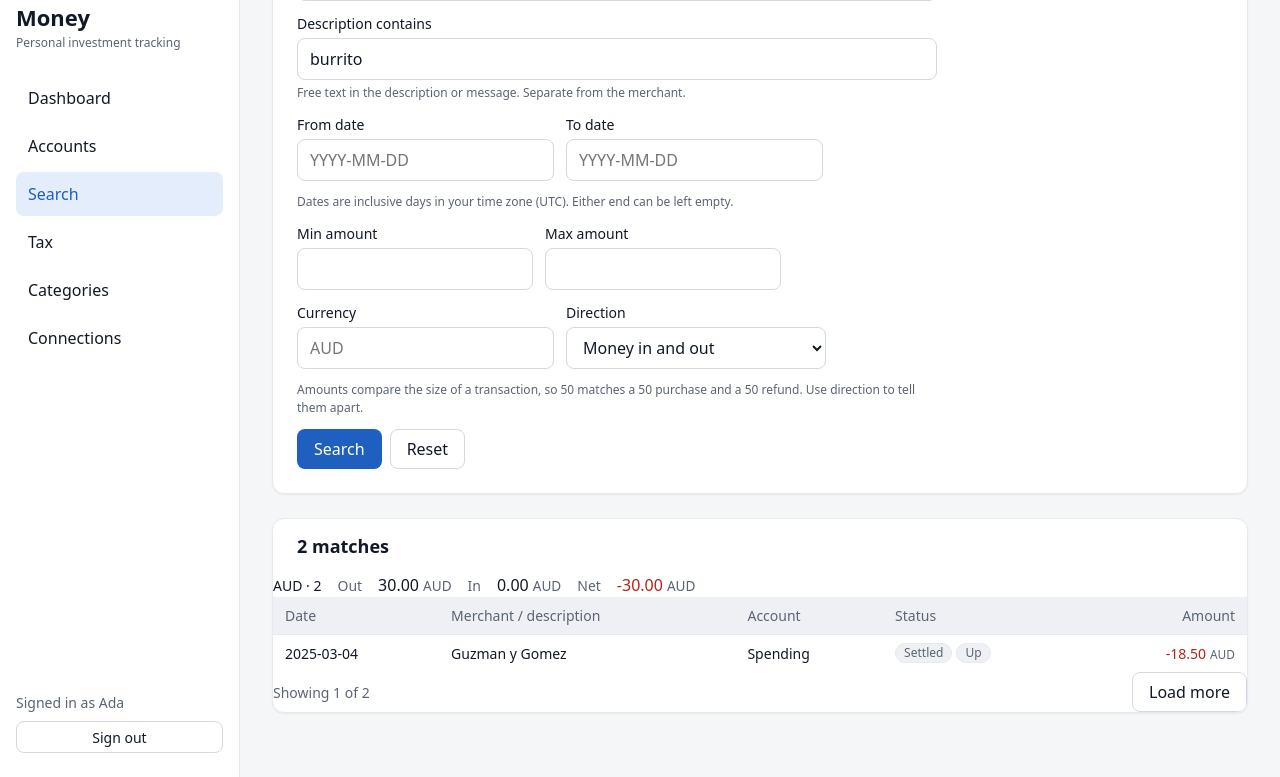
Test: search › shows an empty state and loads more pages
The width and height of the screenshot is (1280, 777).
(page scrolled)
Expected: the heading "2 matches" is shown, [297,534,389,557]
Click the button "Load more".
click(1190, 692)  # box [1132,672,1247,712]
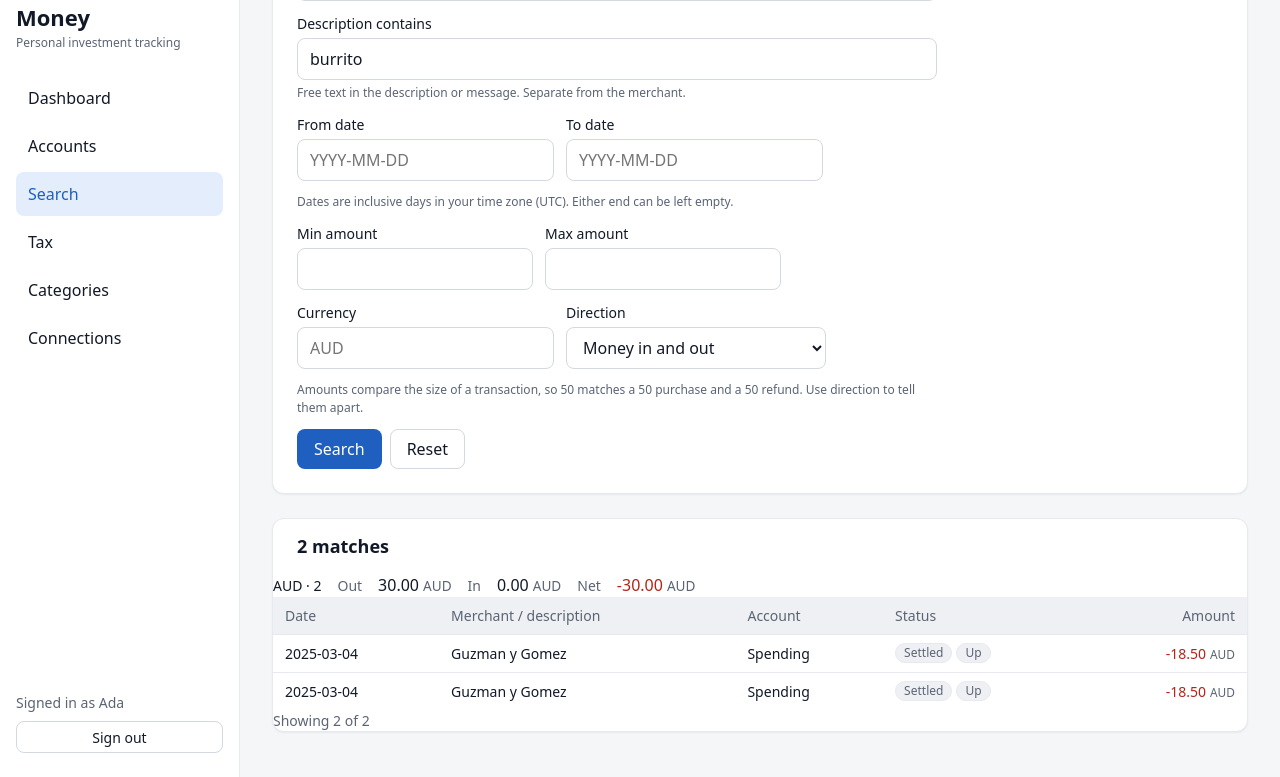
Expected: the text "Showing 2 of 2" is shown, [273,710,370,731]
